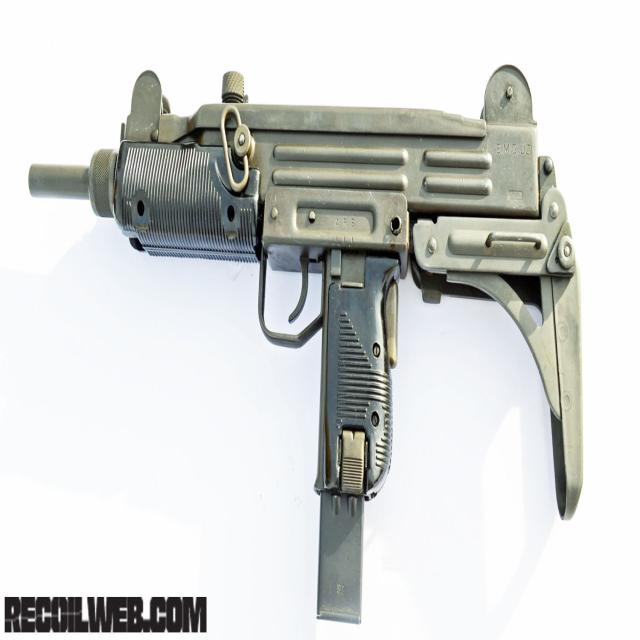SMG: (29, 67, 582, 626)
